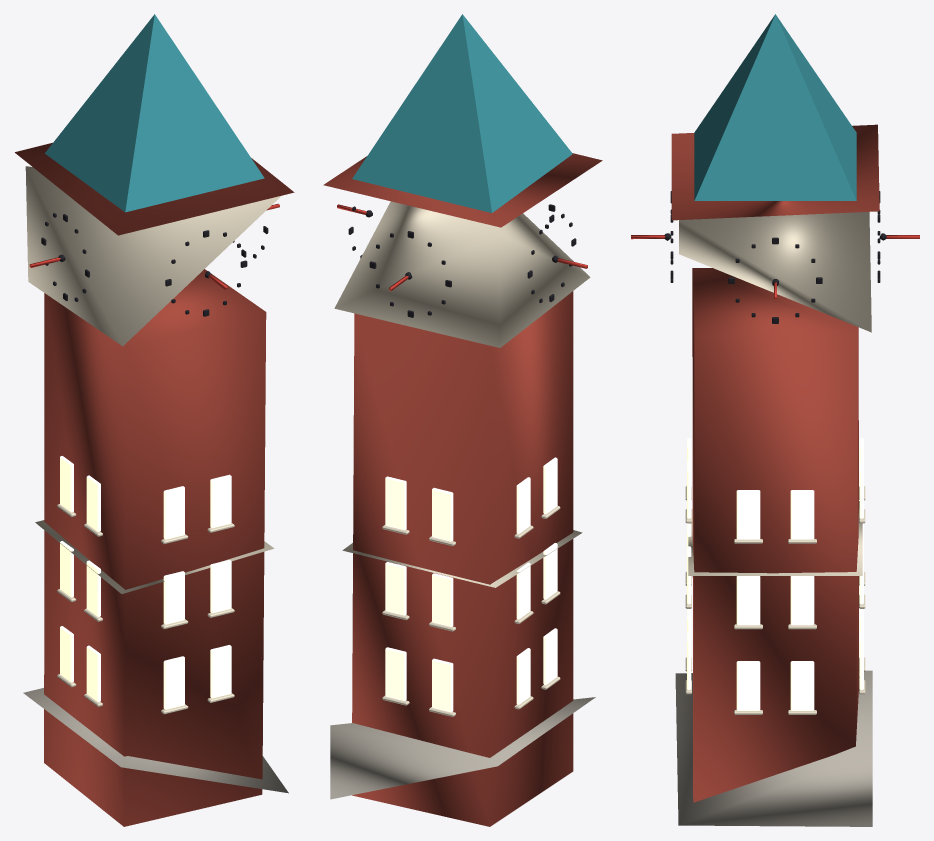
Rendered from clock_tower.glb.
The picture shows the model from 3 angles, left to right: view 1: azimuth 30°, elevation 25°; view 2: azimuth 150°, elevation 25°; view 3: azimuth 270°, elevation 25°; orthographic projection.
Visible parts, largest first — view 1: clock_tower.007; view 2: clock_tower.007; view 3: clock_tower.007.
Boxes of the visible parts, x1,y1,x2,y2 form: clock_tower.007: [15, 14, 294, 826]; clock_tower.007: [323, 14, 602, 826]; clock_tower.007: [670, 14, 880, 826].
Size of the model in its own units: 8.56 by 25.27 by 8.56.
Materials: 1 (1 with a texture image).
